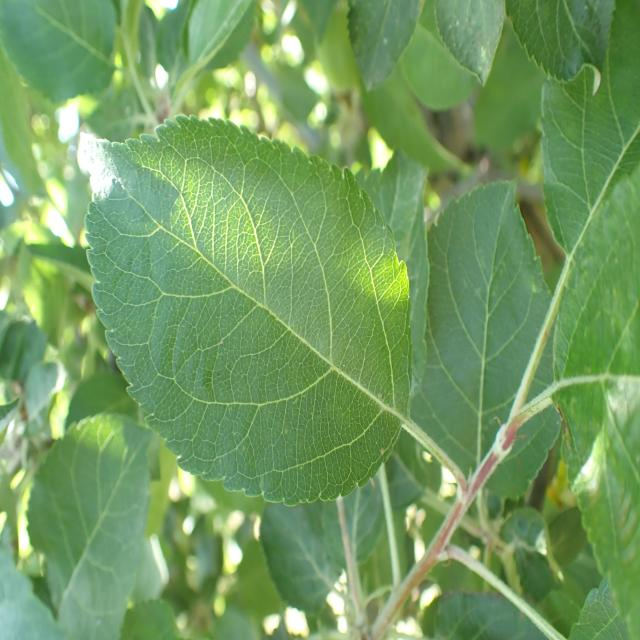healthy: (83, 114, 413, 508), (415, 177, 560, 500), (549, 168, 640, 640), (26, 412, 151, 640), (540, 0, 640, 259), (355, 146, 431, 397), (260, 474, 385, 614), (0, 0, 117, 106), (504, 0, 616, 83), (346, 0, 424, 91), (434, 0, 506, 87)
